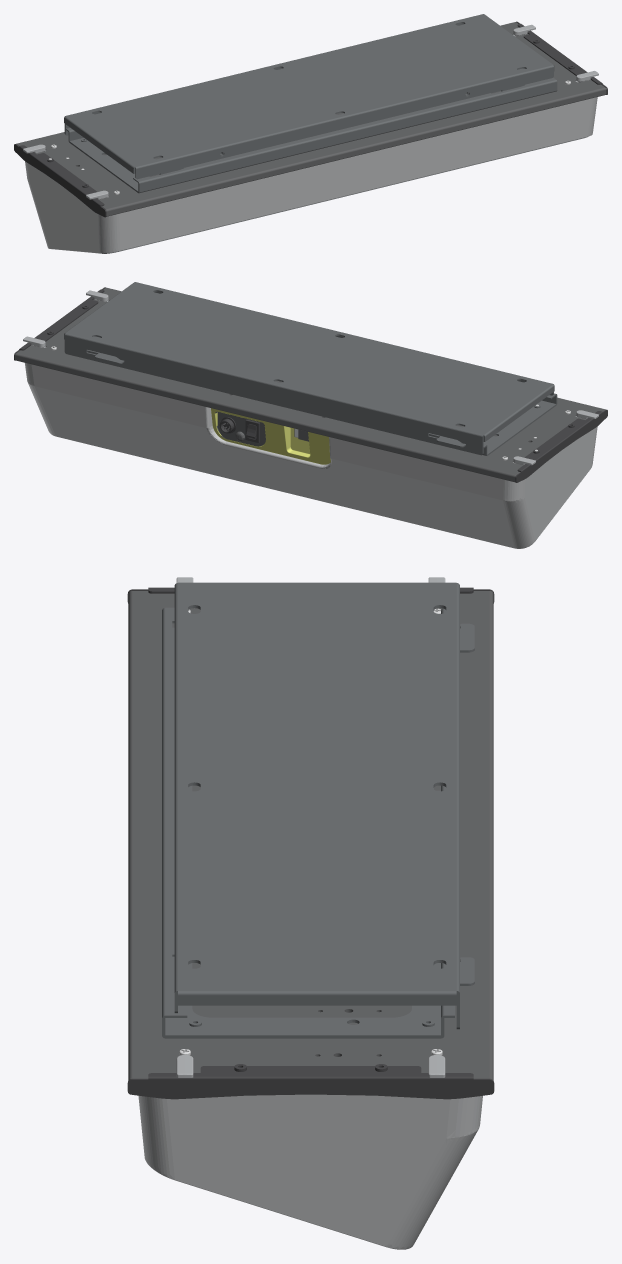
Rendered from sensor-n1.glb.
The picture shows the model from 3 angles, top to bottom: view 1: azimuth 30°, elevation 25°; view 2: azimuth 150°, elevation 25°; view 3: azimuth 270°, elevation 25°; orthographic projection. The views are drawn at different scales.
Visible parts, largest first — view 1: N1-part-02, N1-part-00, N1-part-06, N1-part-04, N1-part-03, N1-part-01; view 2: N1-part-02, N1-part-00, N1-part-06, N1-part-04, N1-part-07, N1-part-08, N1-part-03; view 3: N1-part-02, N1-part-06, N1-part-00, N1-part-04, N1-part-03.
Part boxes in pixels (<box>): N1-part-02: <box>64,14,557,193</box>; N1-part-00: <box>25,33,597,253</box>; N1-part-06: <box>16,22,606,216</box>; N1-part-04: <box>14,21,607,217</box>; N1-part-03: <box>23,24,598,199</box>; N1-part-01: <box>102,136,587,253</box>; N1-part-02: <box>64,282,557,455</box>; N1-part-00: <box>25,299,597,548</box>; N1-part-06: <box>15,287,605,482</box>; N1-part-04: <box>14,287,607,482</box>; N1-part-07: <box>211,408,330,464</box>; N1-part-08: <box>215,411,298,446</box>; N1-part-03: <box>23,290,598,465</box>; N1-part-02: <box>162,582,474,1038</box>; N1-part-06: <box>128,591,493,1080</box>; N1-part-00: <box>138,1094,482,1249</box>; N1-part-04: <box>127,587,494,1099</box>; N1-part-03: <box>176,577,445,1077</box>.
Bounding box in the file's own units: 0.5609 × 0.1223 × 0.1746.
